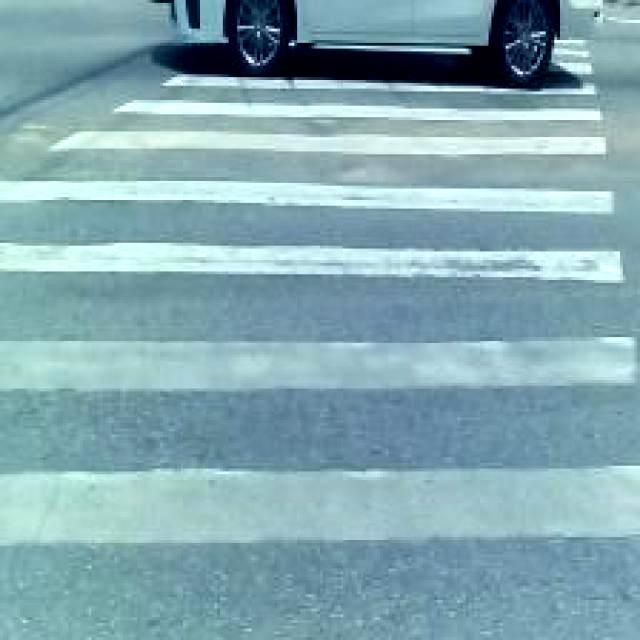crosswalk: (0, 62, 637, 639)
